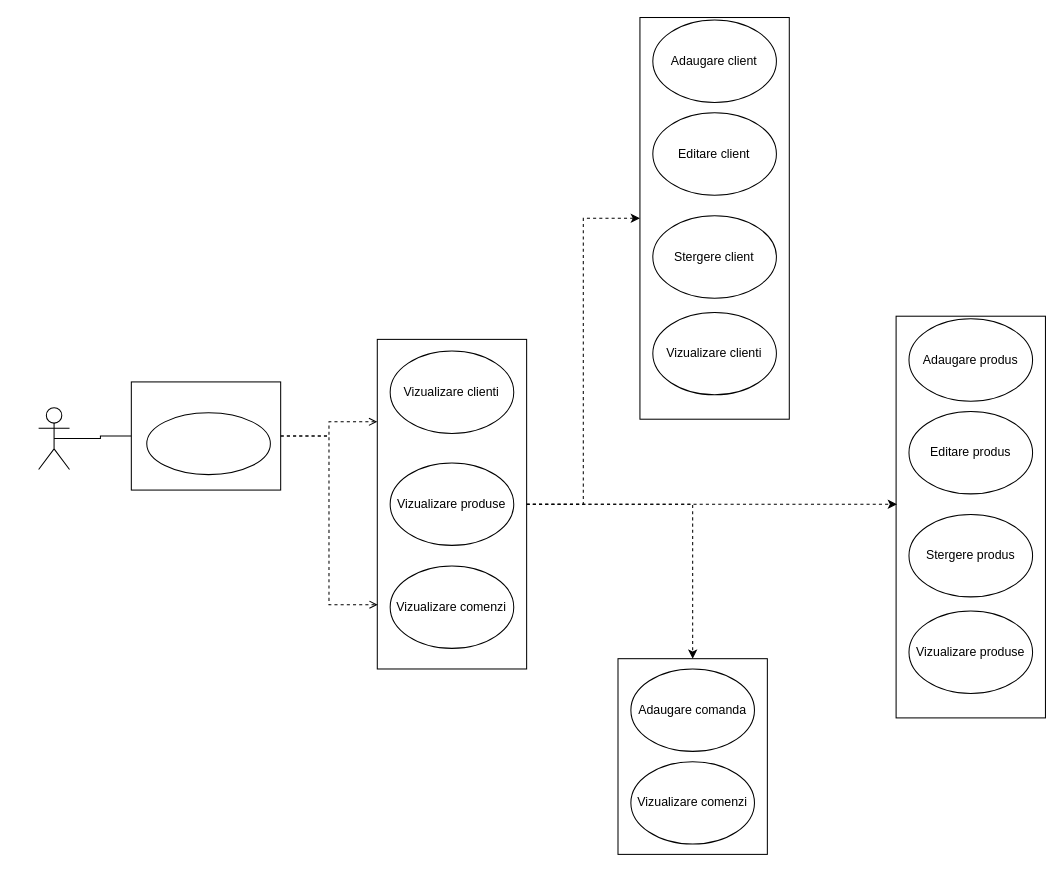
The diagram is 1064 pixels wide and 873 high, and some of its shapes have lost their labels. Each missing label, with the centre of its shape:
"Administrator" belongs at (x=54, y=438).
"Start" belongs at (x=208, y=443).
